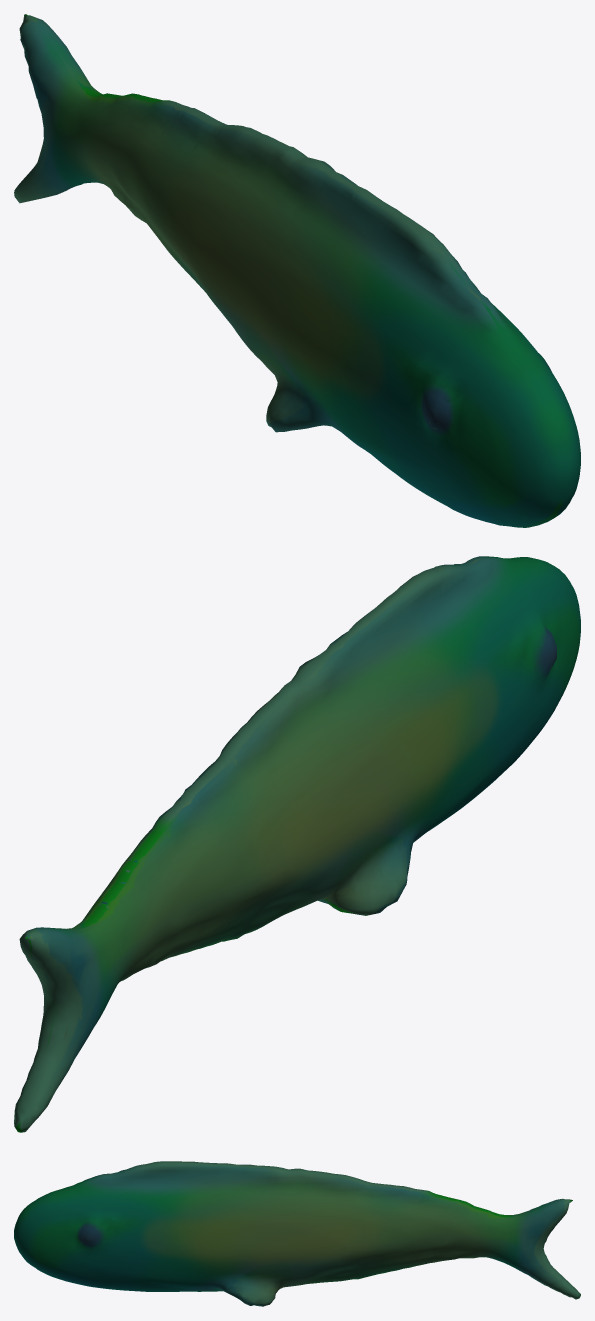
Rendered from fish.fbx.
The picture shows the model from 3 angles, top to bottom: view 1: azimuth 30°, elevation 25°; view 2: azimuth 150°, elevation 25°; view 3: azimuth 270°, elevation 25°; orthographic projection. The views are drawn at different scales.
Parts seen in each view (by area): view 1: Fish; view 2: Fish; view 3: Fish.
Part boxes in pixels (x1,y1,x2,y2): Fish: (14, 14, 580, 527); Fish: (14, 556, 580, 1132); Fish: (14, 1161, 580, 1306).
Size of the model in its own units: 24.13 by 48.07 by 181.
Materials: 1 (1 with a texture image).
